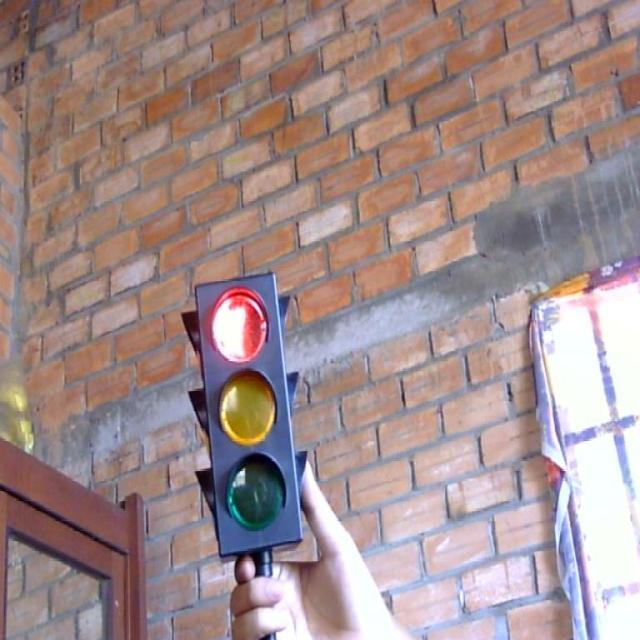red light: (198, 278, 282, 372)
